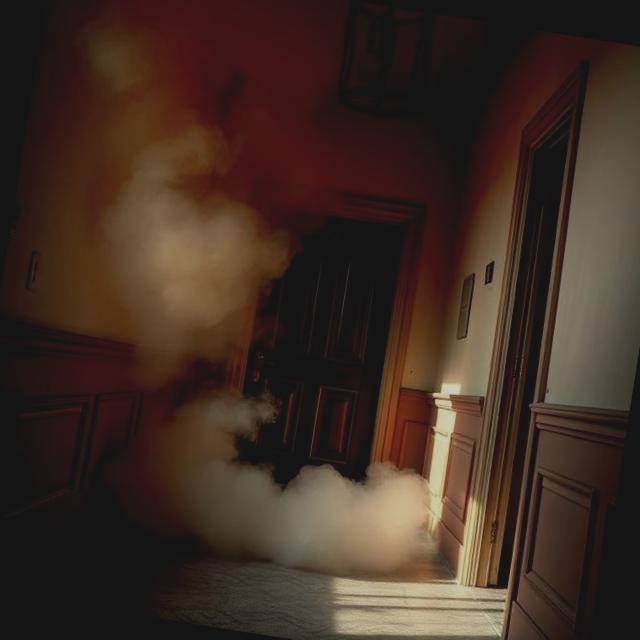smoke: (8, 33, 523, 610)
